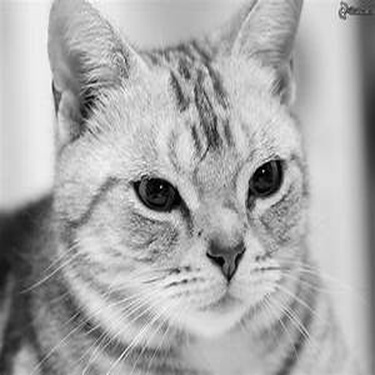cat: (1, 3, 355, 374)
